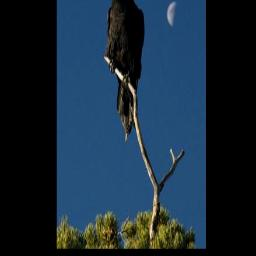Crow: (98, 0, 145, 144)
